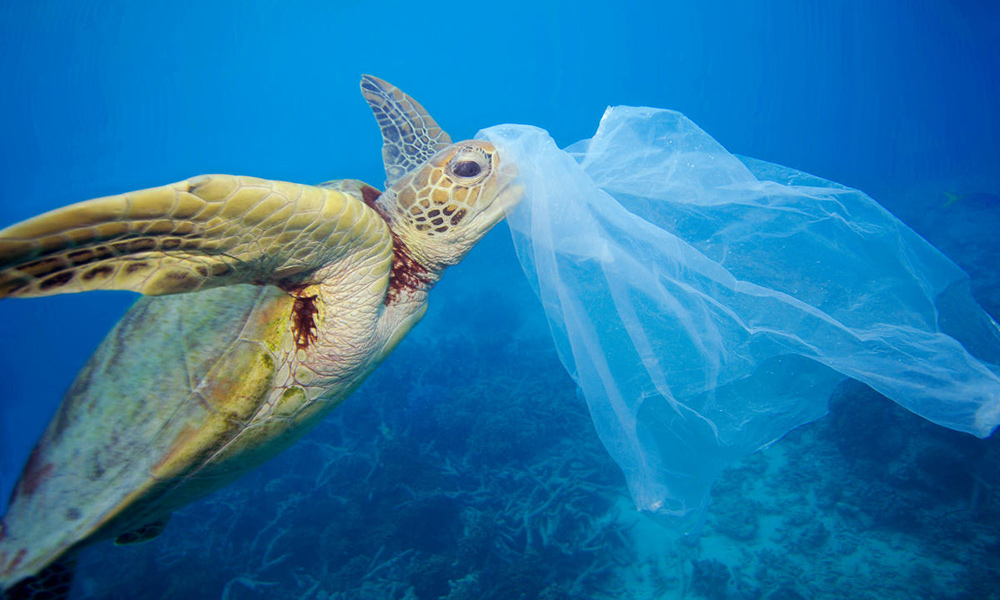fish: (1, 82, 541, 571)
litter: (456, 56, 1000, 534)
